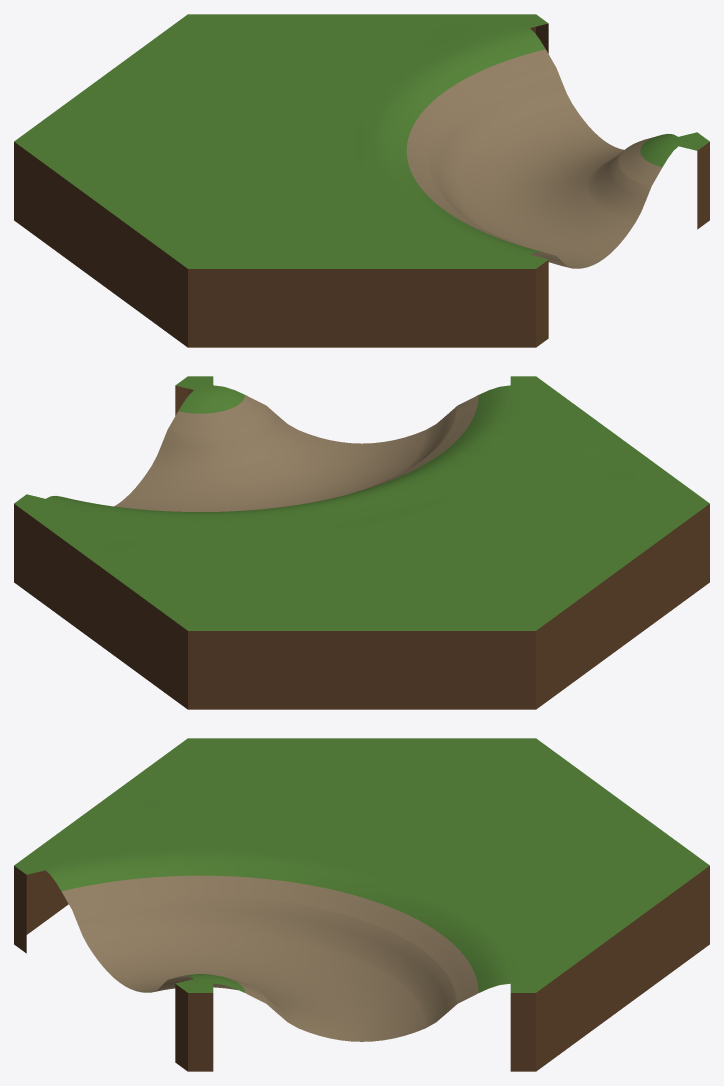
File: river_bend_60_base.glb
3 renders of one model, top to bottom at view 1: azimuth 30°, elevation 25°; view 2: azimuth 150°, elevation 25°; view 3: azimuth 270°, elevation 25°, orthographic.
Parts seen in each view (by area): view 1: river_bend_60_base_lod0; view 2: river_bend_60_base_lod0; view 3: river_bend_60_base_lod0.
Boxes of the visible parts, x1=… form: river_bend_60_base_lod0: x1=14, y1=14, x2=709, y2=347; river_bend_60_base_lod0: x1=14, y1=376, x2=709, y2=709; river_bend_60_base_lod0: x1=14, y1=738, x2=709, y2=1071.
Size of what is drawn, in the model's own units: 27.71 by 4 by 32.
